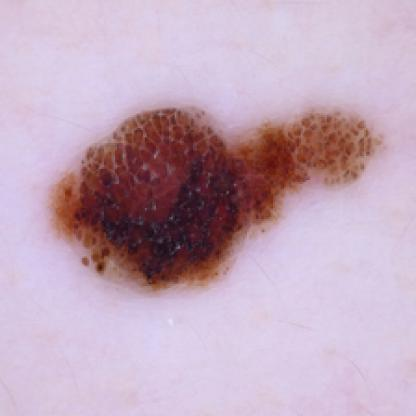benign: (46, 102, 382, 282)
